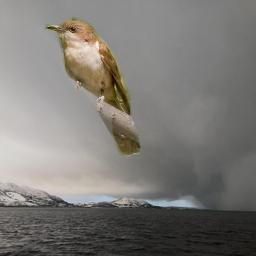Cuckoo: (44, 17, 141, 157)
